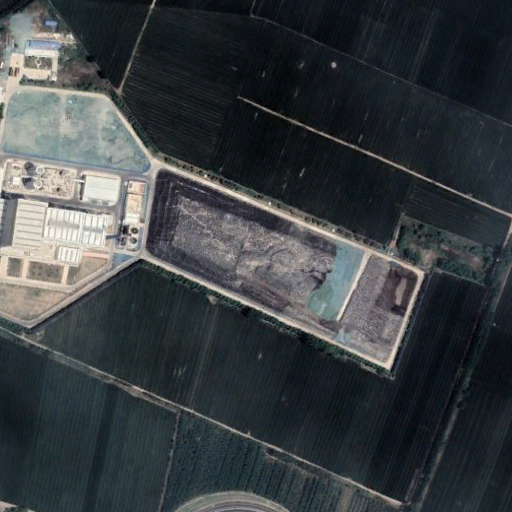lf: (146, 165, 424, 370)
